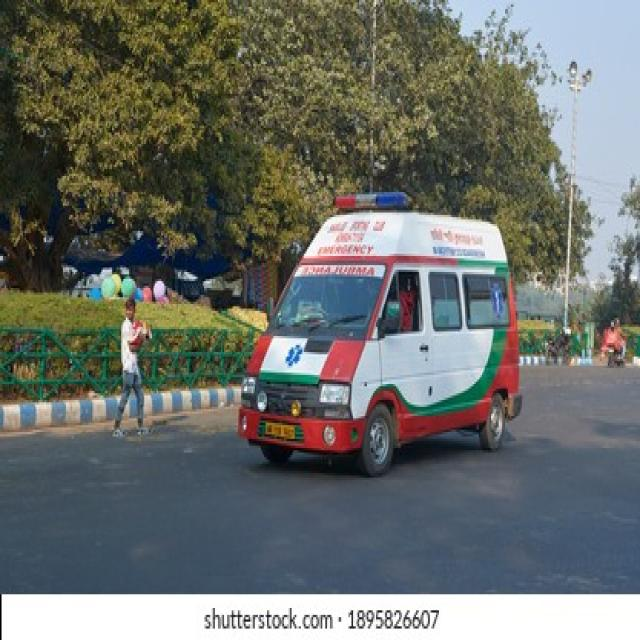ambulance: (240, 193, 519, 481)
